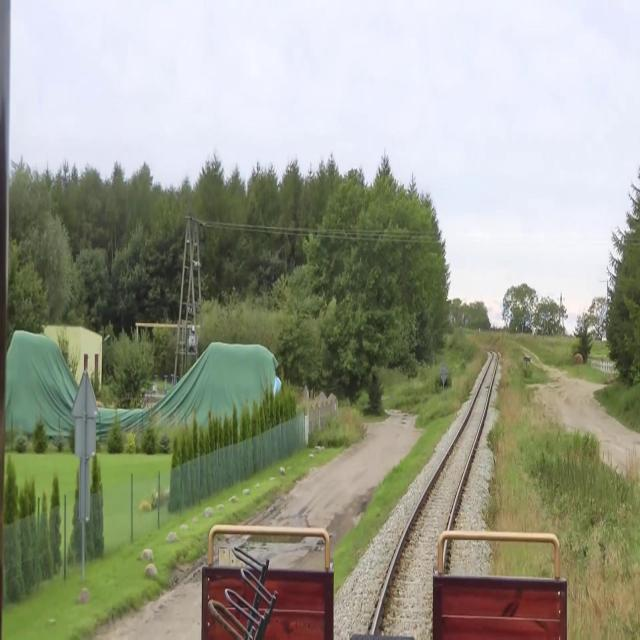rail-track: (375, 353, 496, 633)
